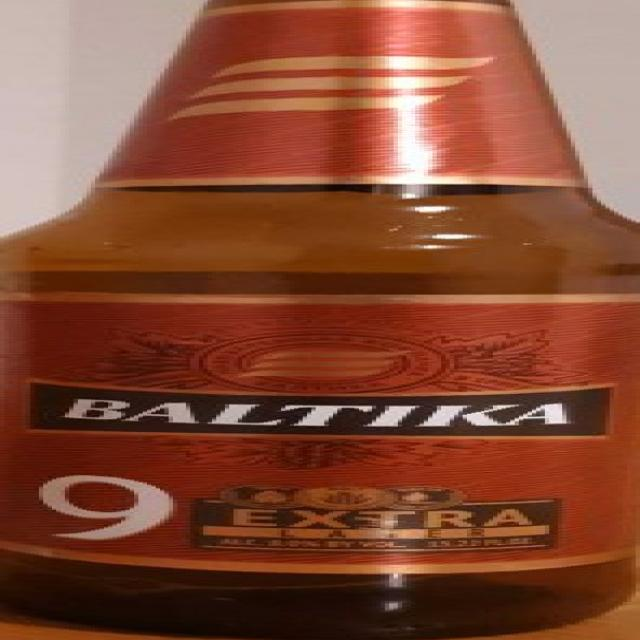Baltika -9: (0, 1, 640, 640)
